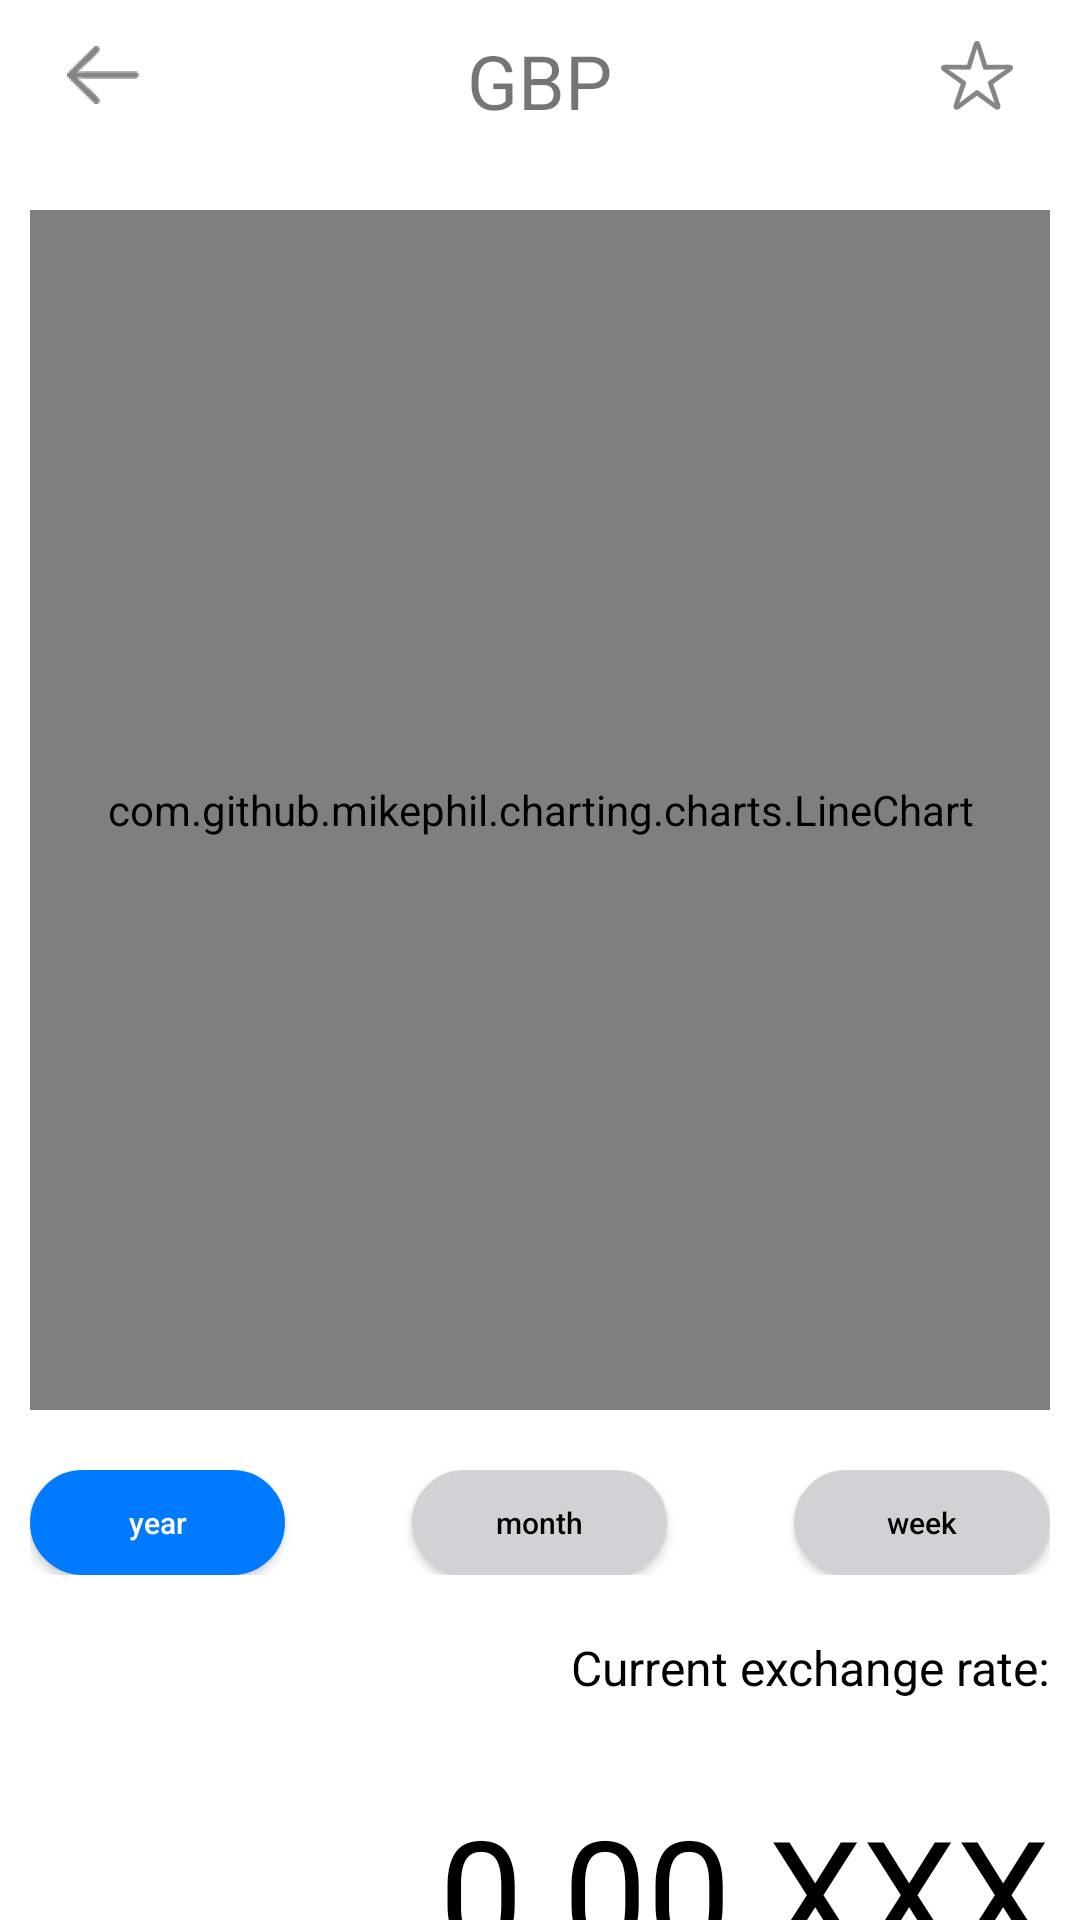

Locate icon controls on the screen. Image size 1080*1920, boxes as (x1, y1, x2, y2).
empty star: (941, 41, 1013, 110)
left arrow: (67, 46, 139, 104)
